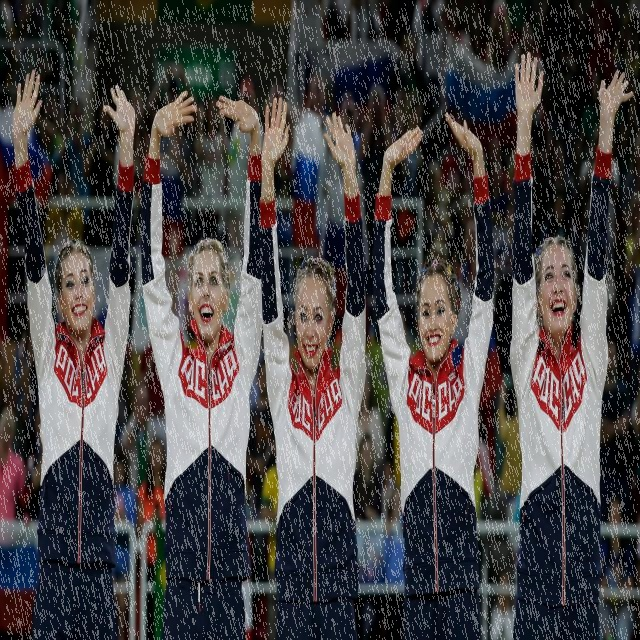pessoa: (508, 45, 637, 640), (11, 66, 141, 639), (138, 84, 266, 640), (371, 110, 498, 640), (257, 88, 367, 640), (419, 83, 602, 322), (300, 1, 640, 83), (85, 29, 171, 292), (0, 0, 80, 171), (352, 312, 400, 584), (472, 321, 522, 568), (146, 90, 196, 312), (114, 317, 172, 497), (605, 82, 639, 379), (272, 83, 420, 148), (25, 289, 68, 508), (388, 88, 429, 296), (326, 108, 366, 314), (579, 123, 620, 319), (290, 75, 333, 258), (224, 78, 266, 254), (260, 80, 296, 268), (394, 88, 424, 310), (597, 337, 634, 516), (359, 85, 392, 284), (596, 495, 636, 640), (5, 198, 46, 338), (193, 92, 232, 238), (49, 97, 92, 227), (119, 380, 168, 492), (244, 323, 260, 640), (113, 441, 138, 638), (246, 358, 276, 510), (136, 437, 168, 567), (0, 403, 35, 521), (259, 445, 279, 639), (81, 90, 117, 197), (0, 406, 33, 522), (354, 363, 386, 474), (44, 163, 84, 246), (372, 482, 405, 582), (15, 402, 42, 520), (353, 432, 383, 523), (627, 378, 640, 559), (488, 568, 518, 639), (0, 336, 16, 443), (258, 322, 266, 366)
